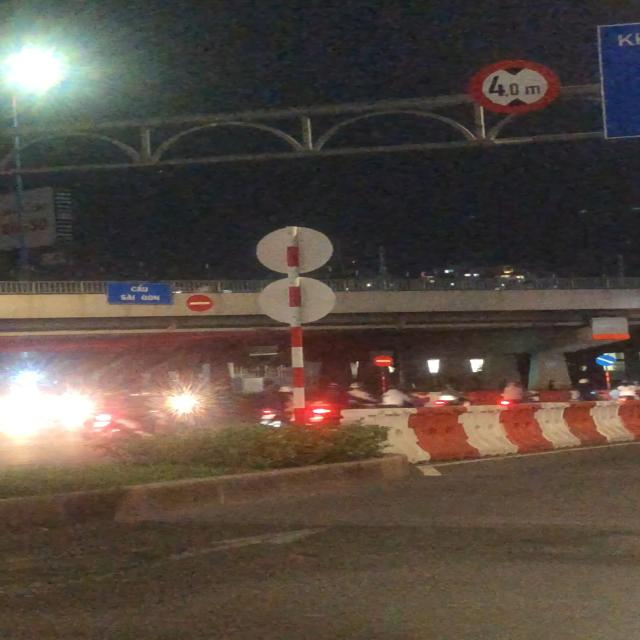Bien bao cam di nguoc chieu: (182, 292, 218, 312), (371, 354, 398, 368)
Bien bao han che chieu cao: (463, 59, 564, 115)
Bien bao huong phai di vong chuong ngai vat: (595, 353, 618, 368)
